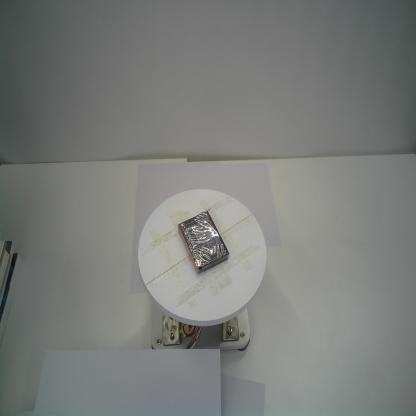Gum: (178, 208, 232, 276)
